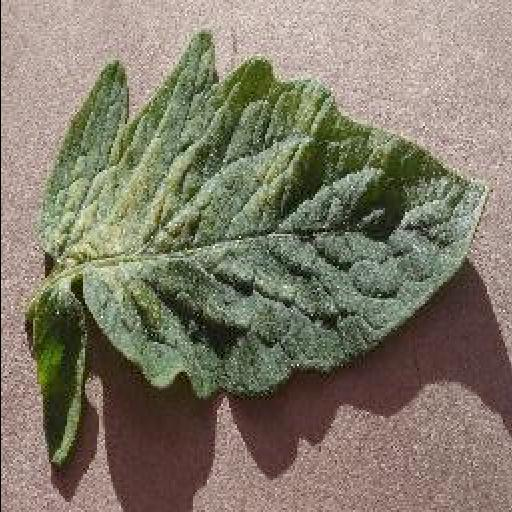disease_tomato: (28, 33, 490, 467)
